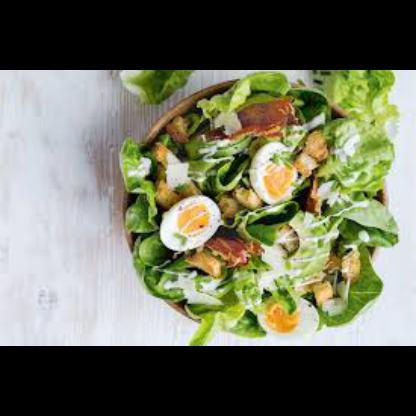salad: (118, 72, 400, 348)
